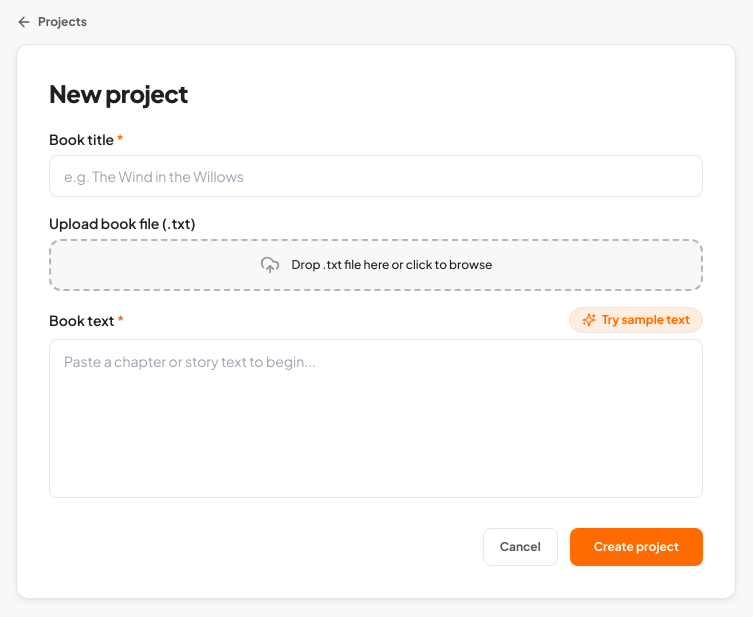
US-4.3: NewProjectPage Book Creation & Validation › populates fields when "Try sample text" is clicked
What coordinates should you click on to do the following:
click the button "Try sample text"
I would click on:
 (636, 320)
Its box is [569,307,703,333].
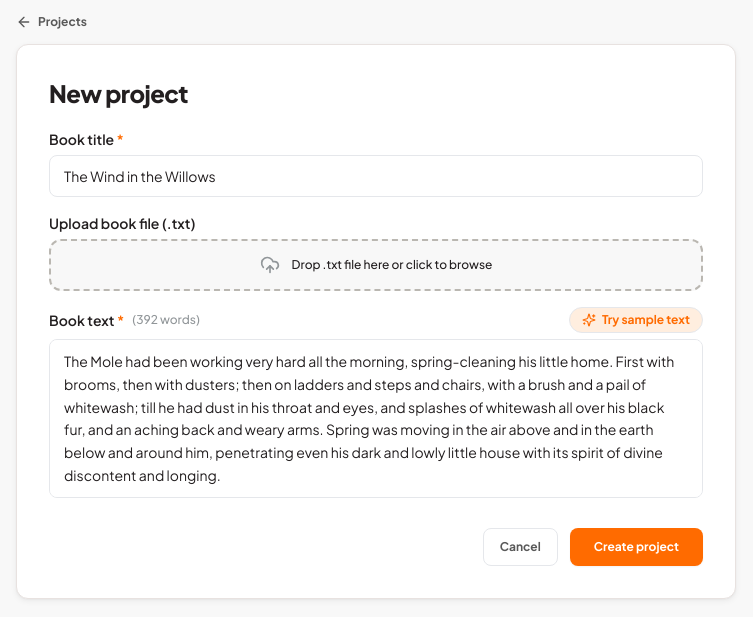
Result: the field with placeholder "e.g. The Wind in the Willows" holds "The Wind in the Willows" at [49,155,703,197]
Result: the text "(392 words)" is shown at [132,312,200,328]
